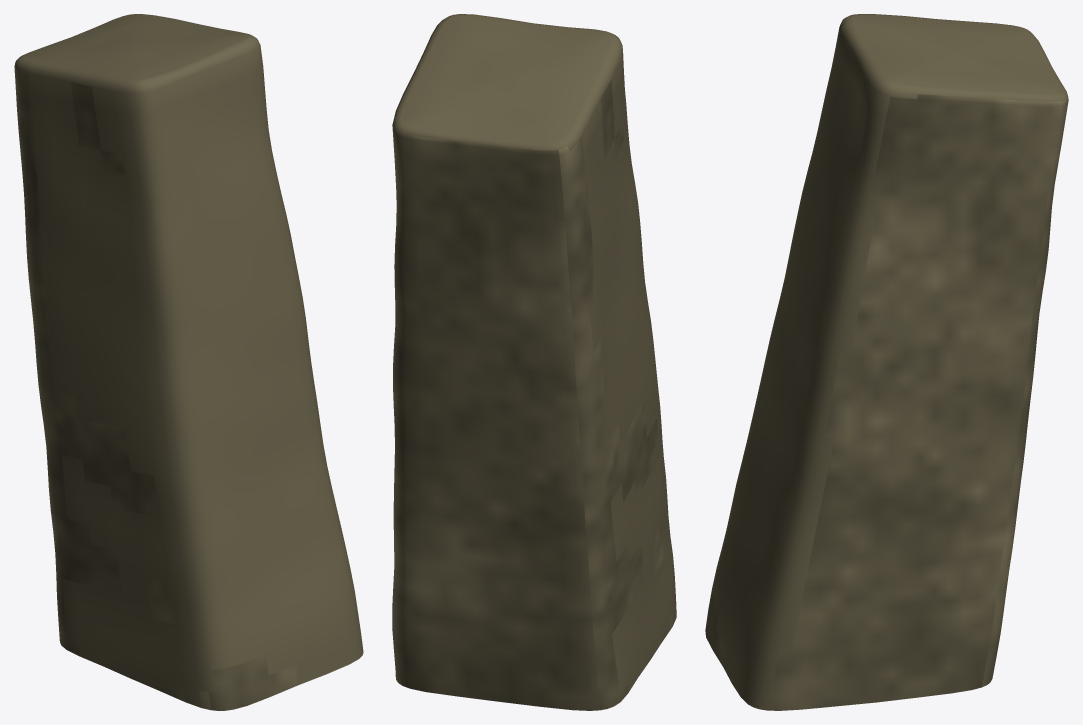
File: ZonHenge04.glb
3 views of the same model, side by side, from view 1: azimuth 30°, elevation 25°; view 2: azimuth 150°, elevation 25°; view 3: azimuth 270°, elevation 25° (orthographic). The views are drawn at different scales.
Visible parts, largest first — view 1: ZonHenge04; view 2: ZonHenge04; view 3: ZonHenge04.
Boxes of the visible parts, x1=… form: ZonHenge04: x1=14, y1=14, x2=363, y2=710; ZonHenge04: x1=392, y1=14, x2=676, y2=710; ZonHenge04: x1=705, y1=14, x2=1068, y2=710.
Bounding box in the file's own units: 1.17 × 2.88 × 1.57.
Materials: 2 (1 with a texture image).
